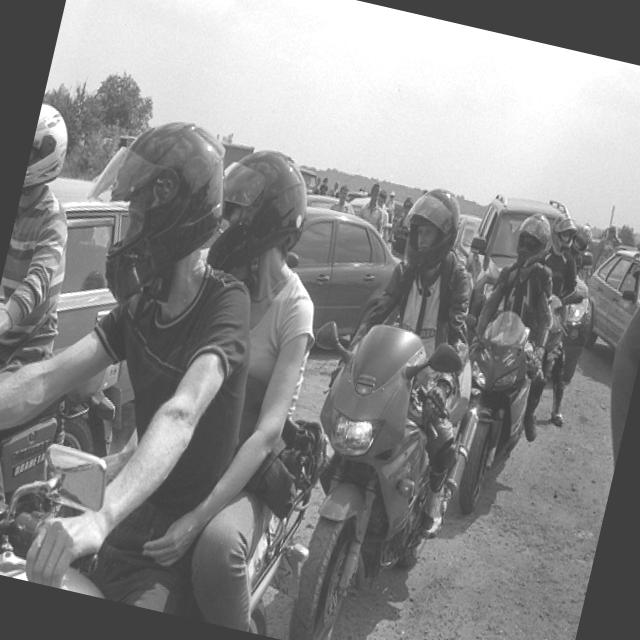Vehicle: (245, 301, 494, 640), (0, 415, 321, 640), (444, 184, 614, 384), (422, 300, 556, 527), (0, 331, 151, 529), (268, 200, 412, 356), (23, 186, 142, 370), (45, 119, 136, 217), (576, 239, 640, 357), (530, 277, 584, 377), (319, 170, 395, 223), (448, 212, 483, 268), (296, 168, 319, 194), (306, 192, 338, 208)
